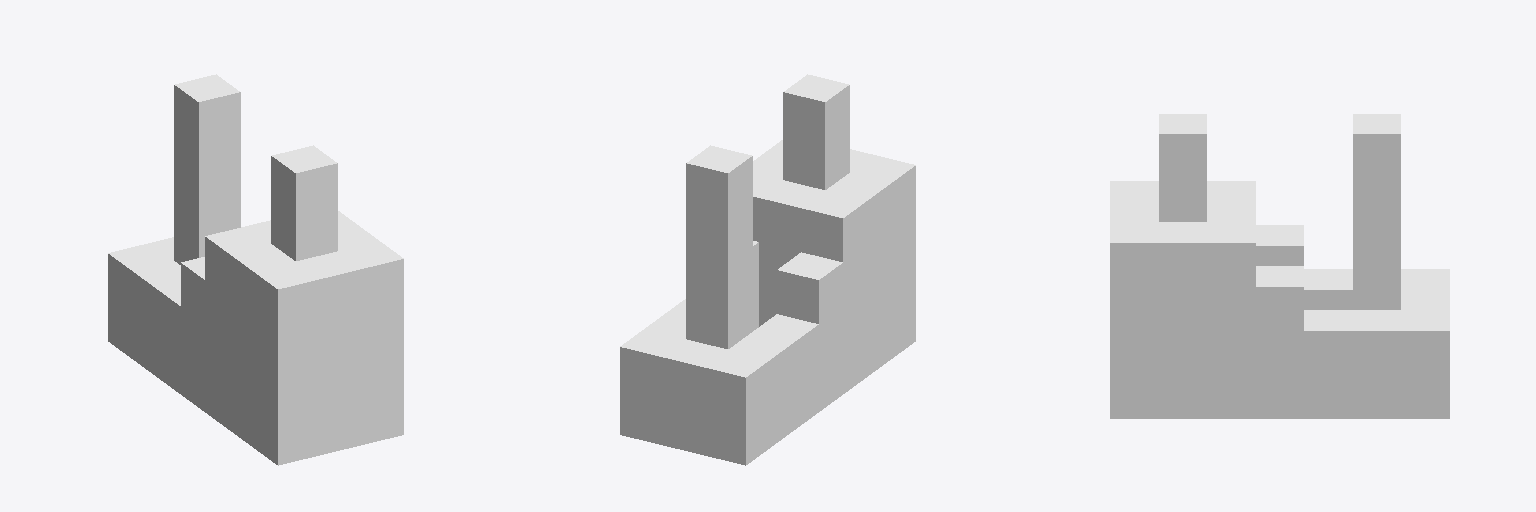
Rendered from F_Pencil.obj.
3 views of the same model, side by side, from view 1: azimuth 30°, elevation 25°; view 2: azimuth 150°, elevation 25°; view 3: azimuth 270°, elevation 25° (orthographic).
Visible parts, largest first — view 1: object 1; view 2: object 1; view 3: object 1.
Boxes of the visible parts, x1,y1,x2,y2 form: object 1: [108, 74, 403, 465]; object 1: [620, 74, 915, 465]; object 1: [1110, 114, 1449, 418].
Bounding box in the file's own units: 0.3 × 0.6 × 0.7.